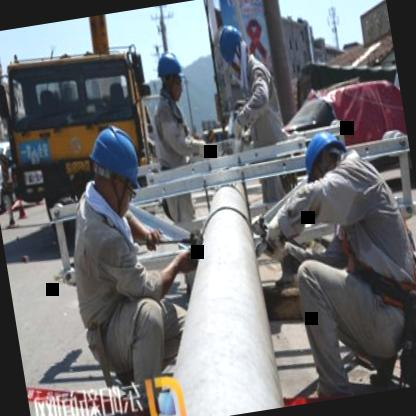helmet: (81, 118, 148, 222), (301, 126, 352, 182), (210, 20, 250, 76), (152, 46, 190, 102)
